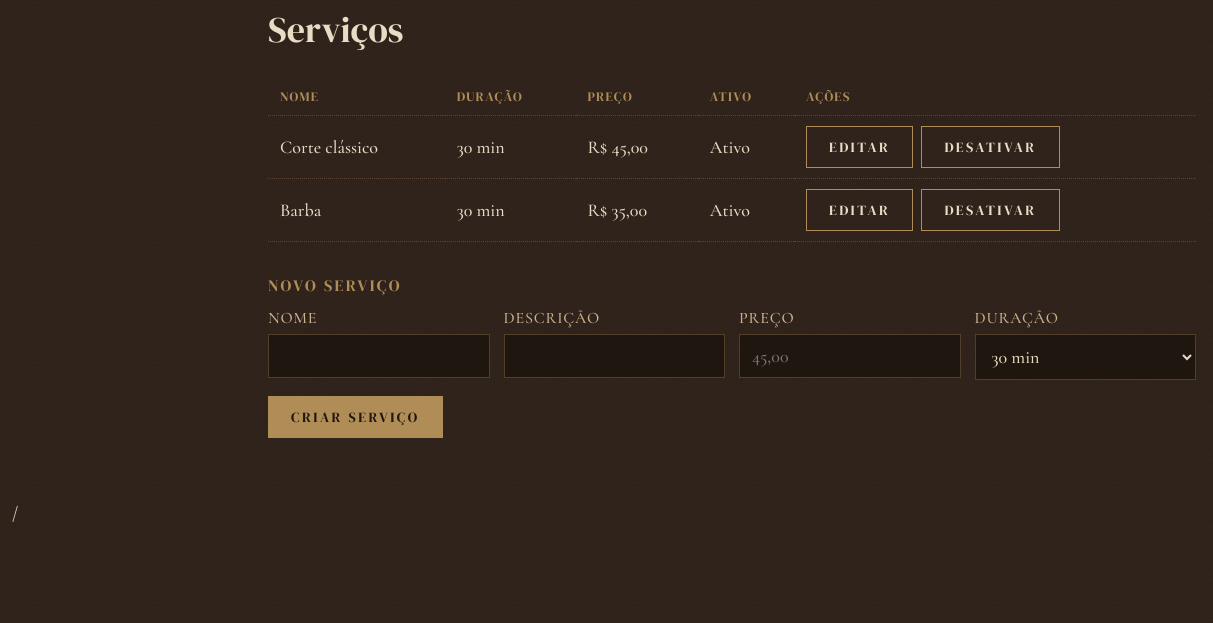
Test: Admin Services › shows field details from a 400
Expected: the cell "Corte clássico" is shown, [268, 116, 445, 178]
Step 1. Type "Pezinho" into the field labelled "Nome" → (379, 356), box [268, 334, 490, 378]
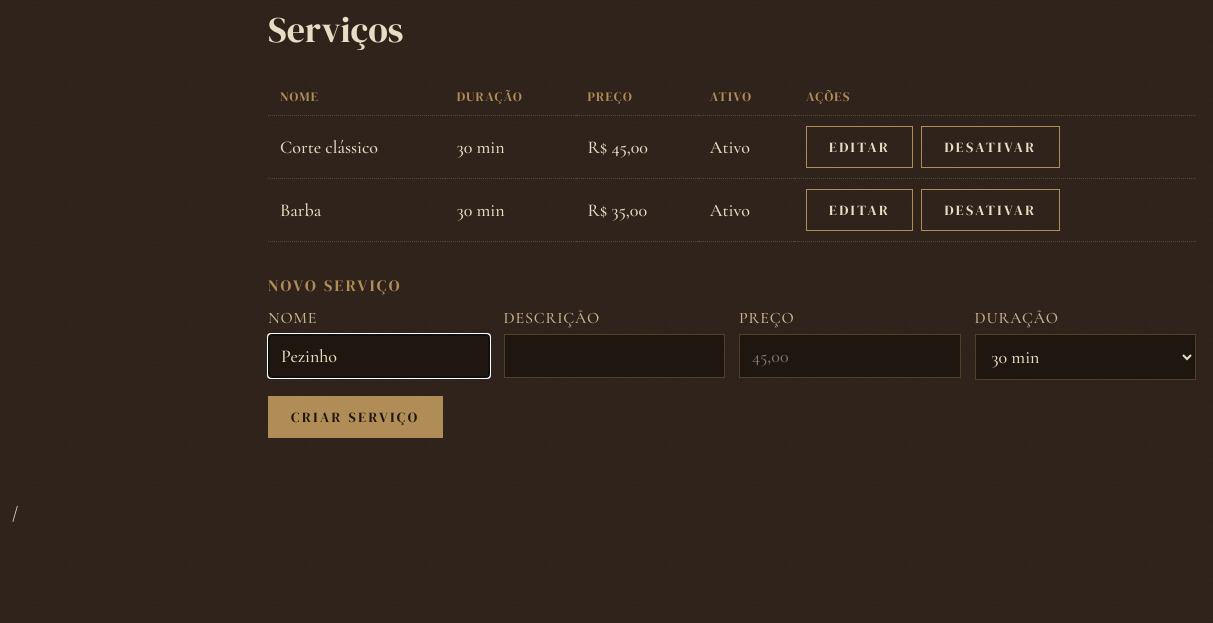
Step 2. Type "20" into the field labelled "Preço" → (850, 356), box [739, 334, 960, 378]
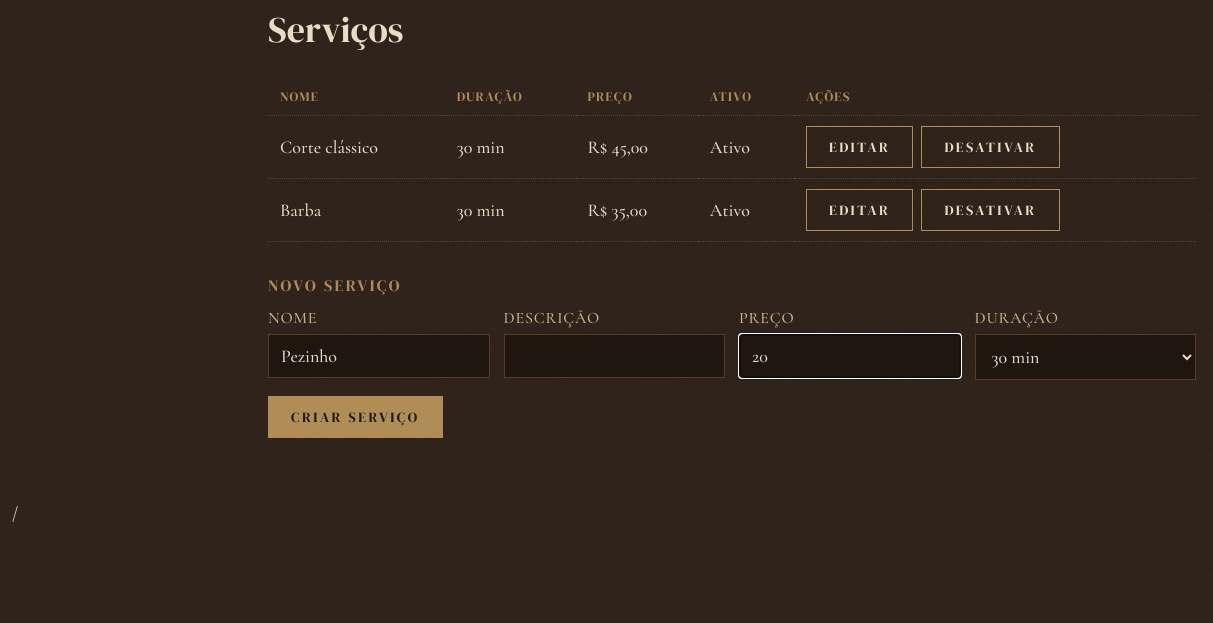
Step 3. Click the button "Criar serviço" → (355, 417), box [268, 396, 443, 438]
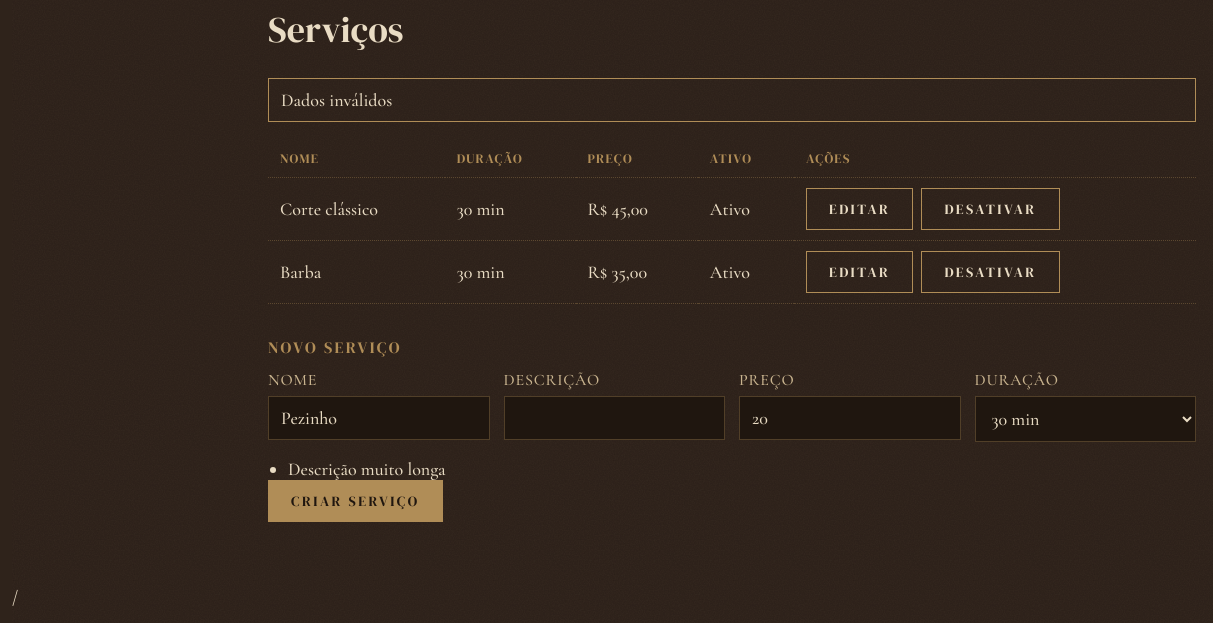
Now the list item "Descrição muito longa" is shown, box [288, 458, 446, 480]
